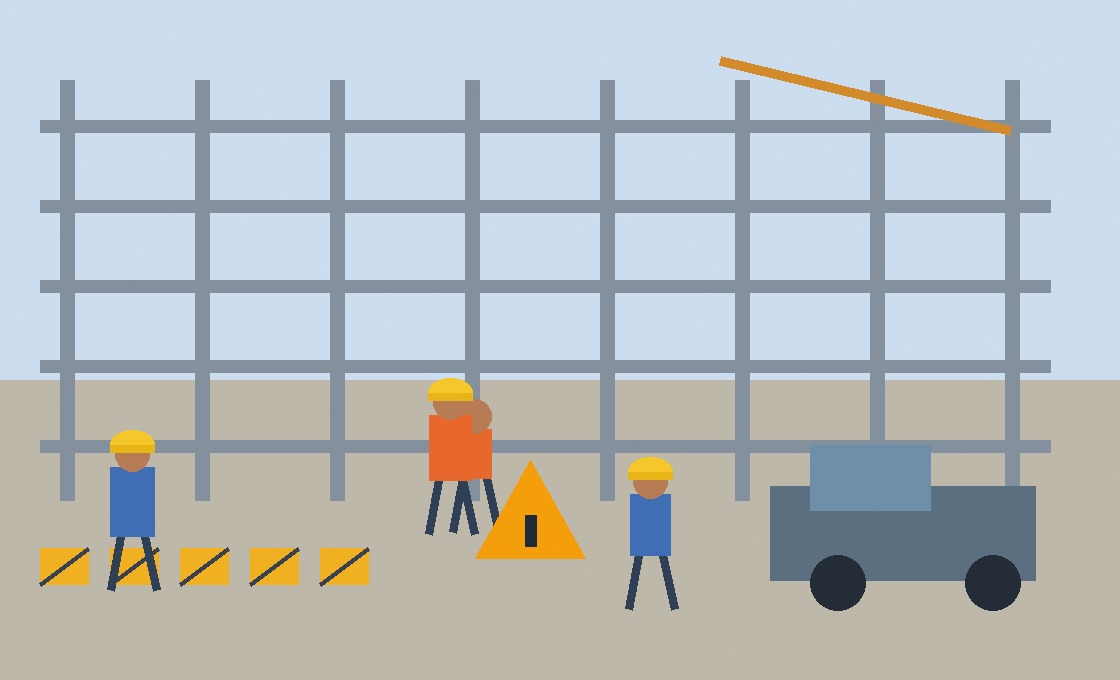no_helmet: (199, 350, 241, 384)
person: (184, 360, 246, 530)
vehicle: (770, 445, 1035, 595)
vest: (174, 395, 246, 483)
warning_sign: (475, 458, 585, 558)
